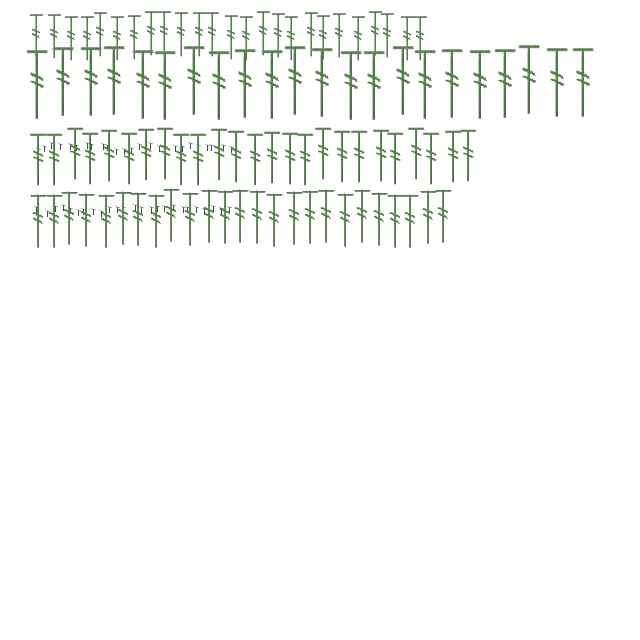enseble_chain: (36, 148, 42, 156), (74, 144, 80, 152), (114, 148, 120, 156), (122, 148, 128, 156), (148, 142, 154, 150), (188, 142, 194, 150), (196, 144, 202, 152), (34, 206, 40, 214), (194, 206, 200, 214), (202, 208, 208, 216), (42, 146, 48, 152), (58, 144, 64, 150), (68, 144, 74, 150), (180, 146, 186, 152), (68, 208, 74, 214), (76, 210, 82, 216), (162, 206, 168, 212), (50, 142, 54, 150), (86, 142, 90, 150), (106, 144, 110, 152), (206, 144, 210, 152), (210, 144, 214, 152), (222, 144, 226, 152), (230, 146, 234, 154), (46, 210, 50, 218), (62, 204, 66, 212), (82, 208, 86, 216), (92, 208, 96, 216), (100, 210, 104, 218), (108, 206, 112, 214), (116, 206, 120, 214), (122, 206, 126, 214), (134, 204, 138, 212), (140, 206, 144, 214), (150, 206, 154, 214), (172, 204, 176, 212), (182, 206, 186, 214), (186, 206, 190, 214), (228, 206, 232, 214), (90, 144, 94, 150), (102, 144, 106, 150), (130, 148, 134, 154), (138, 144, 142, 150), (158, 146, 162, 152), (164, 146, 168, 152), (174, 146, 178, 152), (54, 206, 58, 212), (156, 206, 160, 212), (212, 206, 216, 212), (220, 208, 224, 214)
fan: (24, 48, 52, 122), (130, 48, 158, 122), (282, 44, 310, 118), (390, 44, 418, 118), (412, 48, 440, 122), (544, 46, 572, 120), (570, 46, 598, 120), (50, 46, 78, 118), (78, 46, 106, 118), (152, 50, 180, 122), (206, 50, 234, 122), (232, 48, 260, 120), (338, 50, 366, 122), (492, 48, 520, 120), (516, 44, 544, 116), (102, 44, 128, 118), (182, 44, 208, 118), (260, 48, 286, 122), (310, 46, 336, 120), (468, 48, 494, 122), (362, 50, 388, 122), (440, 48, 466, 120), (28, 192, 50, 252), (44, 192, 66, 252), (96, 192, 118, 252), (128, 190, 150, 250), (146, 192, 168, 252), (180, 190, 202, 250), (300, 188, 322, 248), (400, 192, 422, 252), (418, 188, 440, 248), (76, 192, 98, 250), (230, 188, 252, 246), (264, 192, 286, 250), (284, 190, 306, 248), (316, 188, 338, 246), (352, 188, 374, 246), (28, 132, 50, 188), (44, 132, 66, 188), (188, 132, 210, 188), (262, 130, 284, 186), (406, 126, 428, 182), (458, 128, 480, 184), (162, 186, 182, 246), (216, 188, 236, 248), (248, 188, 268, 248), (370, 190, 390, 250), (386, 192, 406, 252), (80, 132, 102, 186), (136, 128, 158, 182), (226, 130, 248, 184), (280, 132, 302, 186), (332, 130, 354, 184), (60, 190, 80, 248), (114, 190, 134, 248), (200, 188, 220, 246), (336, 192, 356, 250), (434, 188, 454, 246), (66, 126, 86, 182), (100, 128, 120, 184), (156, 126, 176, 182), (172, 132, 192, 188), (246, 132, 266, 188), (296, 132, 316, 188), (314, 126, 334, 182), (372, 128, 392, 184), (120, 132, 140, 186), (210, 128, 230, 182), (350, 130, 370, 184), (386, 132, 406, 186), (422, 132, 442, 186), (444, 130, 464, 184), (28, 12, 46, 62), (46, 12, 64, 62), (92, 10, 110, 60), (204, 10, 222, 60), (238, 14, 256, 64), (350, 14, 368, 64), (412, 14, 430, 64), (126, 14, 144, 62), (156, 10, 174, 58), (270, 12, 288, 60), (64, 14, 80, 64), (80, 14, 96, 64), (110, 14, 126, 64), (174, 10, 190, 60), (192, 10, 208, 60), (284, 14, 300, 64), (304, 10, 320, 60), (400, 14, 416, 64), (144, 10, 160, 58), (224, 14, 240, 62), (256, 10, 272, 58), (316, 14, 332, 62), (332, 12, 348, 60), (368, 10, 384, 58), (380, 12, 396, 60)
